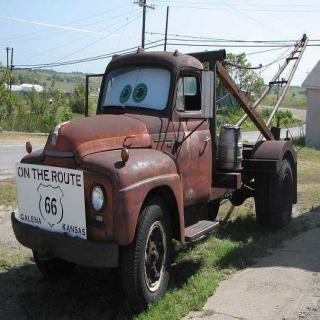Towing_truck: (10, 34, 308, 312)
